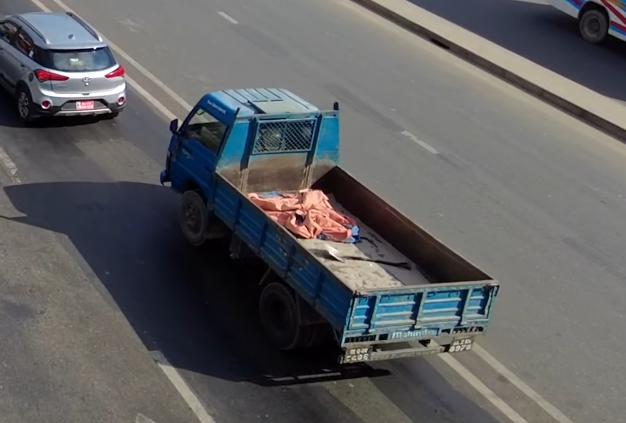car: (0, 7, 124, 127)
mini_truck: (158, 74, 501, 374)
